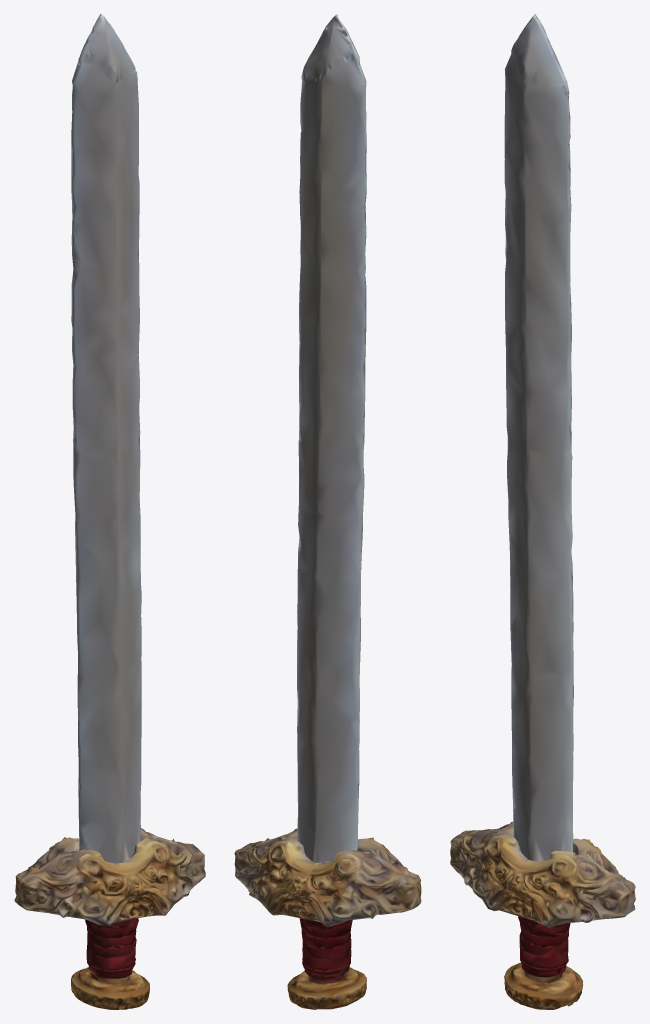
The model's file is sword-qinggang.glb.
3 views of the same model, side by side, from view 1: azimuth 30°, elevation 25°; view 2: azimuth 150°, elevation 25°; view 3: azimuth 330°, elevation 25° (orthographic).
Visible parts, largest first — view 1: sword-qinggang; view 2: sword-qinggang; view 3: sword-qinggang.
Boxes of the visible parts, bbox=[...] form: sword-qinggang: bbox=[14, 14, 205, 1009]; sword-qinggang: bbox=[234, 14, 421, 1009]; sword-qinggang: bbox=[450, 14, 635, 1009].
Bounding box in the file's own units: 0.2681 × 1.4 × 0.1471.
